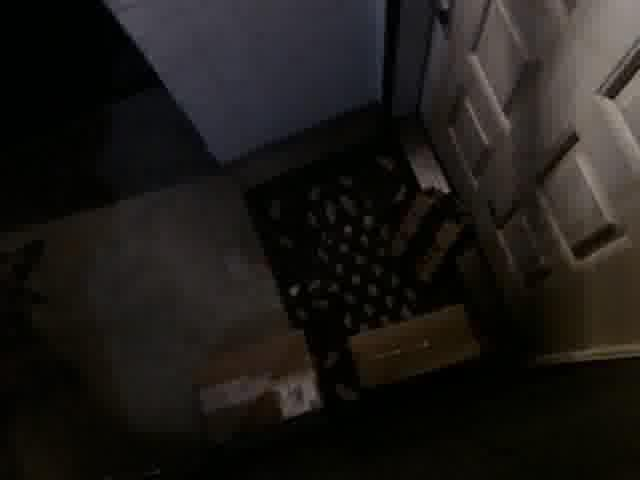box: (184, 328, 329, 449), (347, 298, 487, 399)
